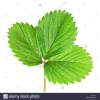Strawberry leaf: (35, 4, 78, 61), (44, 43, 95, 88), (6, 20, 43, 66)
